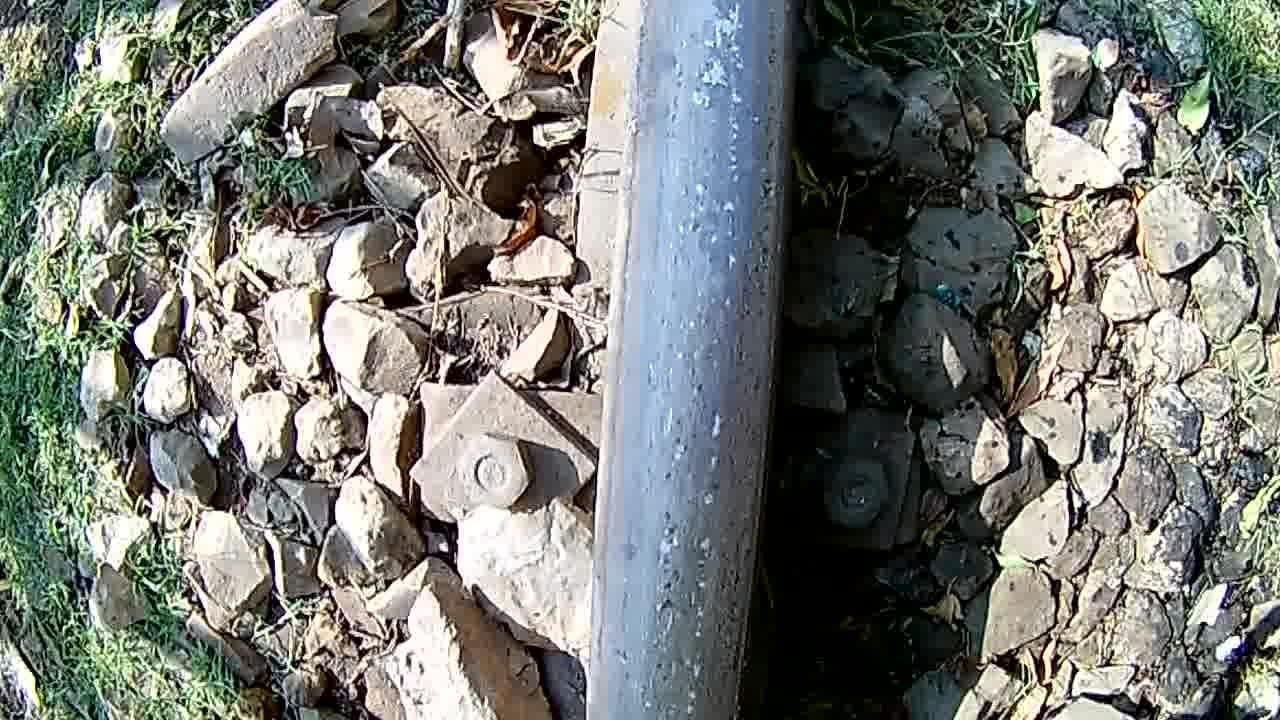crack: (593, 3, 804, 720)
